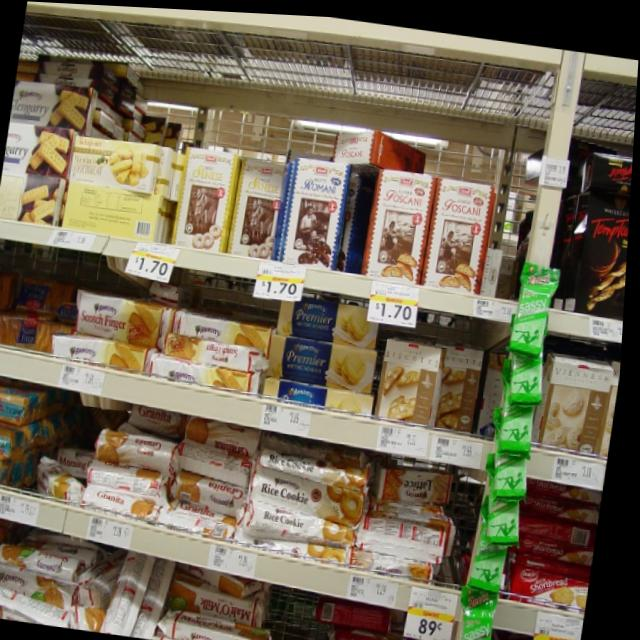q211: (365, 157, 439, 281), (424, 172, 498, 289)
